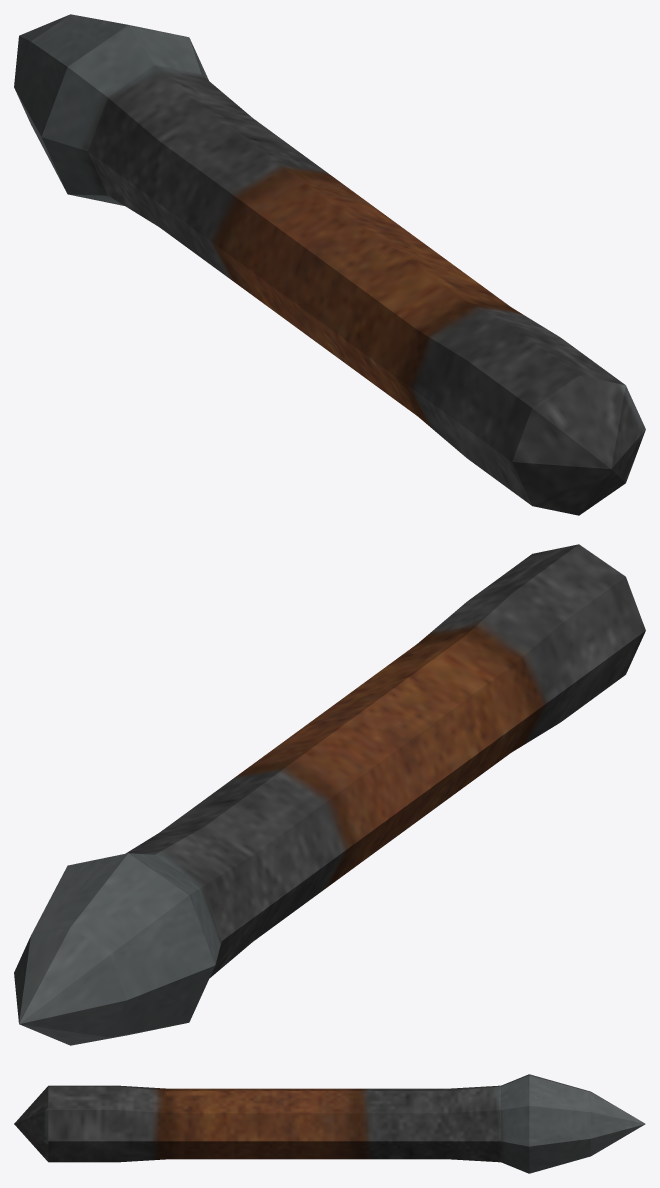
File: ironrod.obj
3 views of the same model, one above another, from view 1: azimuth 30°, elevation 25°; view 2: azimuth 150°, elevation 25°; view 3: azimuth 270°, elevation 25° (orthographic). The views are drawn at different scales.
Parts seen in each view (by area): view 1: Base; view 2: Base; view 3: Base.
Part boxes in pixels (x1,y1,x2,y2): Base: (14, 14, 645, 515); Base: (14, 544, 645, 1045); Base: (14, 1074, 645, 1173).
Bounding box in the file's own units: 0.2028 × 0.2028 × 1.2.
